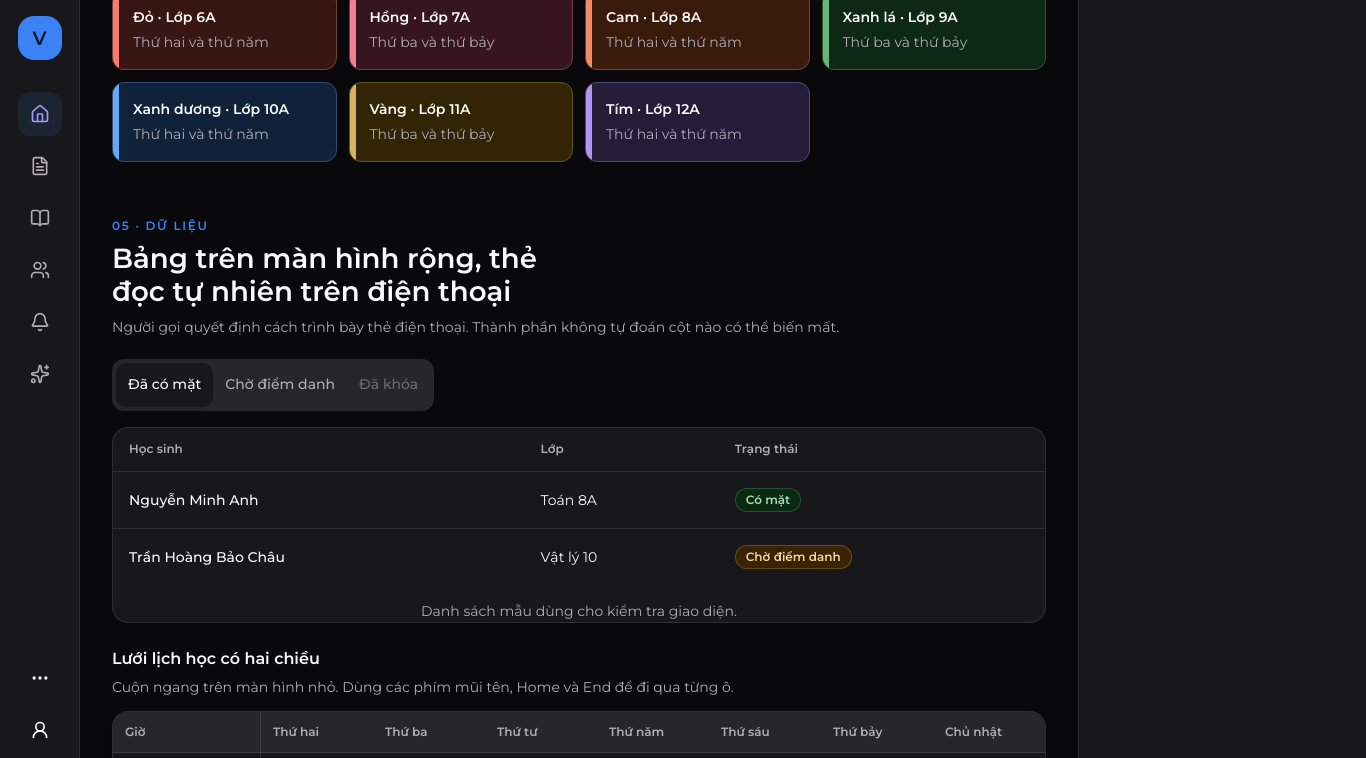
Scenario: DesignSystemPage › AC-6 and AC-8 demonstrates the ResponsiveTable empty rows branch
The width and height of the screenshot is (1366, 758).
(page scrolled)
Click the tab "Chờ điểm danh" at (280, 385), box [213, 363, 347, 407]
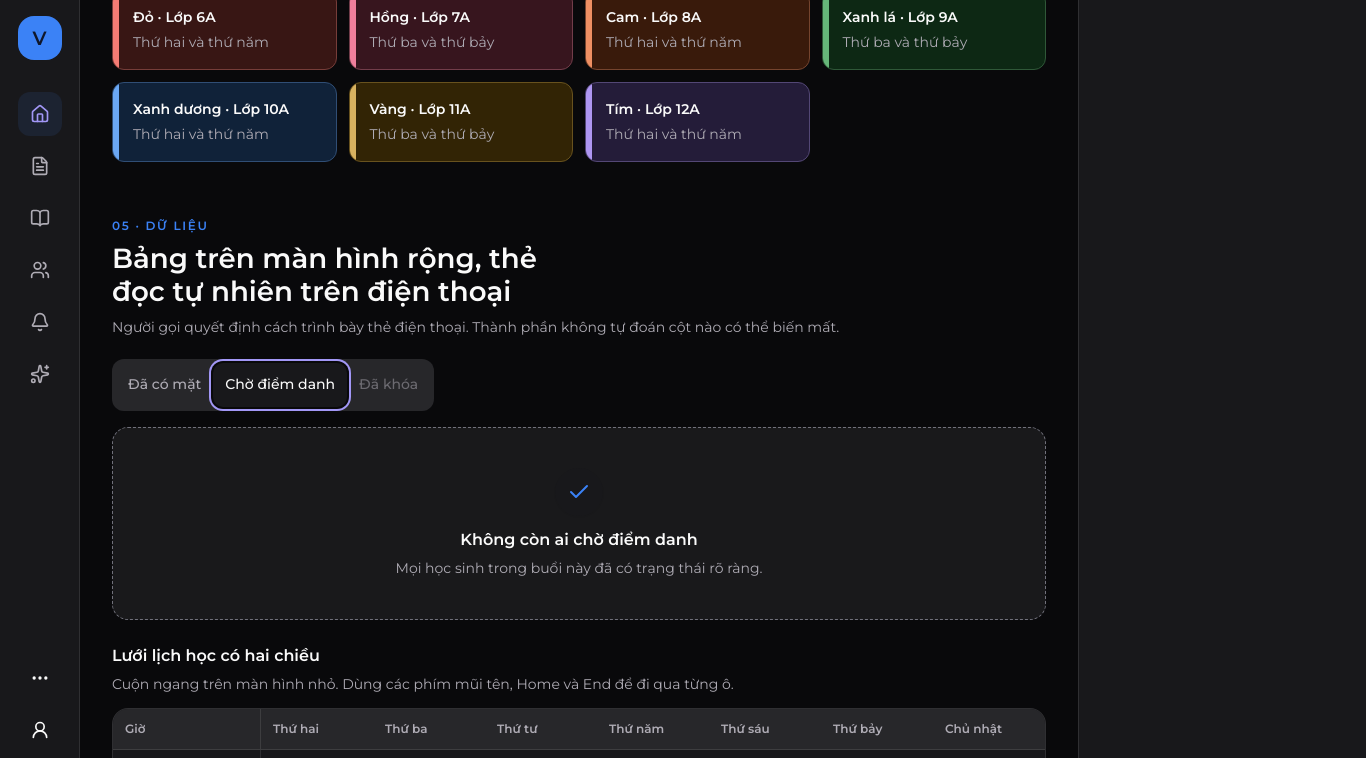
Now the text "Danh sách mẫu" is gone
